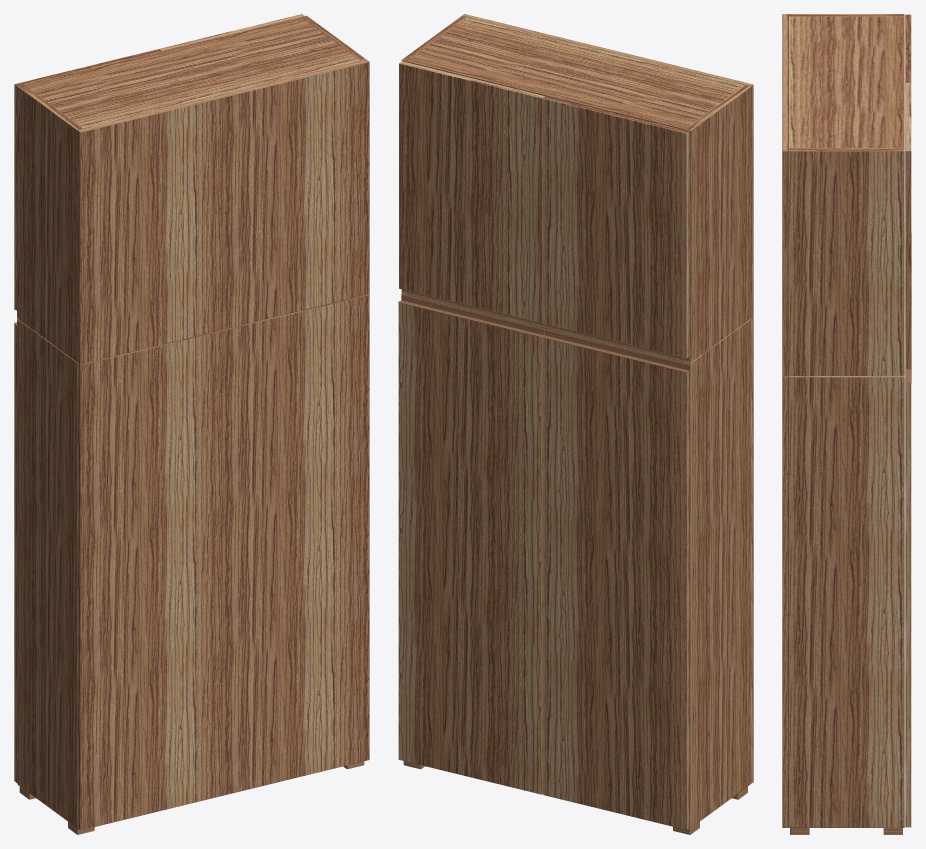
The model's file is higned_door_cabinet_4OH_attach_2OH_finala.fbx.
The picture shows the model from 3 angles, left to right: view 1: azimuth 30°, elevation 25°; view 2: azimuth 150°, elevation 25°; view 3: azimuth 270°, elevation 25°; orthographic projection. The views are drawn at different scales.
Parts seen in each view (by area): view 1: obudowa_mesh, drewno_mesh, drewno_mesh2; view 2: drewno_mesh, drewno_mesh1, obudowa_mesh, drewno_mesh2, drewno_mesh3, raczka_mesh, raczka_mesh1, raczka_mesh2; view 3: obudowa_mesh, drewno_mesh1, drewno_mesh3, drewno_mesh2, metal_mesh.
Boxes of the visible parts, x1,y1,x2,y2 form: obudowa_mesh: (17, 15, 369, 830); drewno_mesh: (14, 324, 17, 782); drewno_mesh2: (14, 49, 160, 309); drewno_mesh: (543, 338, 689, 829); drewno_mesh1: (398, 303, 543, 794); obudowa_mesh: (401, 14, 753, 827); drewno_mesh2: (543, 96, 689, 357); drewno_mesh3: (399, 61, 545, 322); raczka_mesh: (543, 329, 689, 374); raczka_mesh1: (398, 293, 544, 337); raczka_mesh2: (543, 323, 689, 362); obudowa_mesh: (782, 14, 904, 827); drewno_mesh1: (905, 383, 911, 827); drewno_mesh3: (905, 83, 911, 368); drewno_mesh2: (905, 14, 911, 82); metal_mesh: (790, 828, 902, 834).
Size of the model in its own units: 100 by 233 by 39.9.
